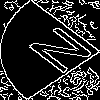N: (24, 25, 100, 83)
